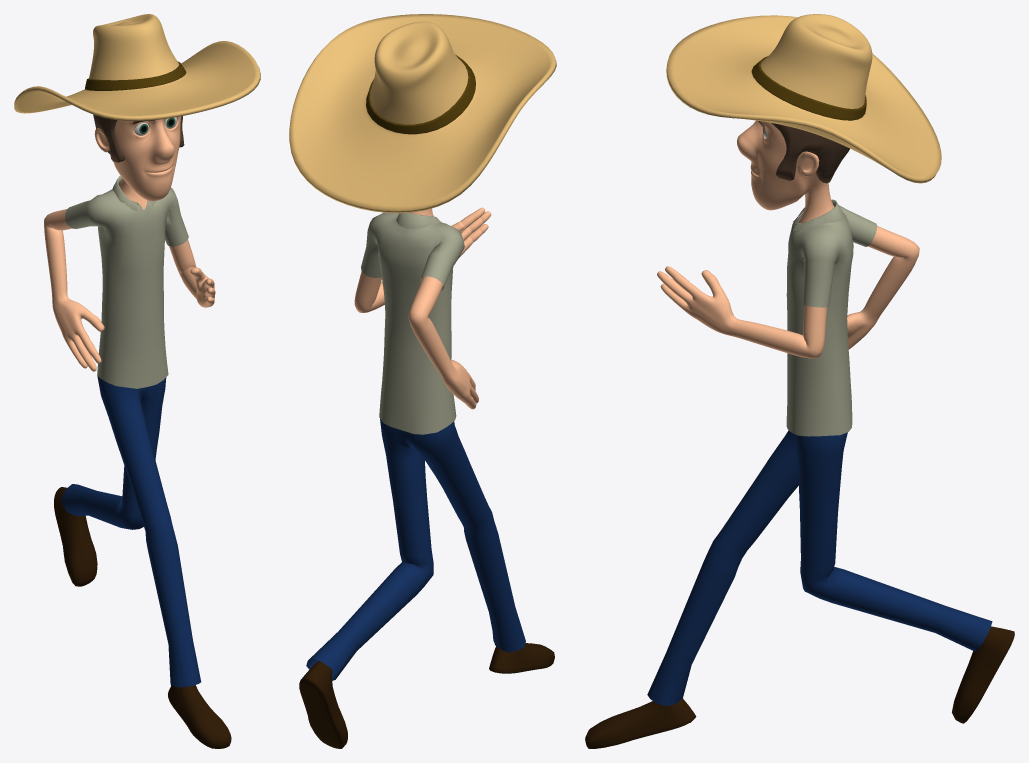
File: GuyRun1.obj
3 views of the same model, side by side, from view 1: azimuth 30°, elevation 25°; view 2: azimuth 150°, elevation 25°; view 3: azimuth 270°, elevation 25° (orthographic). The views are drawn at different scales.
Size of the model in its own units: 2.18 by 7.13 by 3.79.
